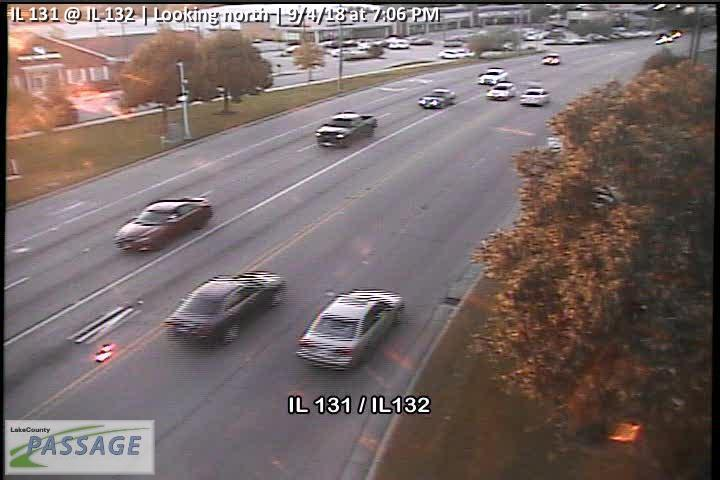Sedan: (160, 269, 286, 346), (295, 287, 405, 372), (112, 196, 212, 252), (418, 87, 455, 110), (519, 84, 551, 107), (486, 80, 518, 100), (478, 65, 509, 85), (438, 48, 462, 58)
Truck: (316, 109, 379, 146)
